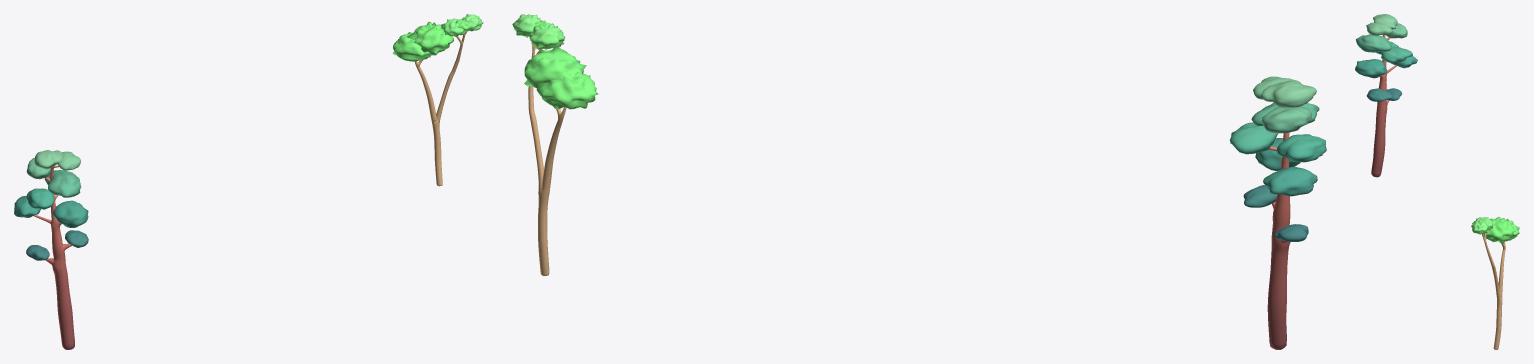
3 renders of one model, left to right at view 1: azimuth 30°, elevation 25°; view 2: azimuth 150°, elevation 25°; view 3: azimuth 270°, elevation 25°, orthographic. The views are drawn at different scales.
Parts seen in each view (by area): view 1: Object_7; view 2: Object_7; view 3: Object_7.
Part boxes in pixels (<box>): Object_7: <box>14,14,483,349</box>; Object_7: <box>512,14,1326,349</box>; Object_7: <box>1355,14,1519,349</box>.
Bounding box in the file's own units: 19.25 × 7 × 6.74.
1 material, 1 textured.
